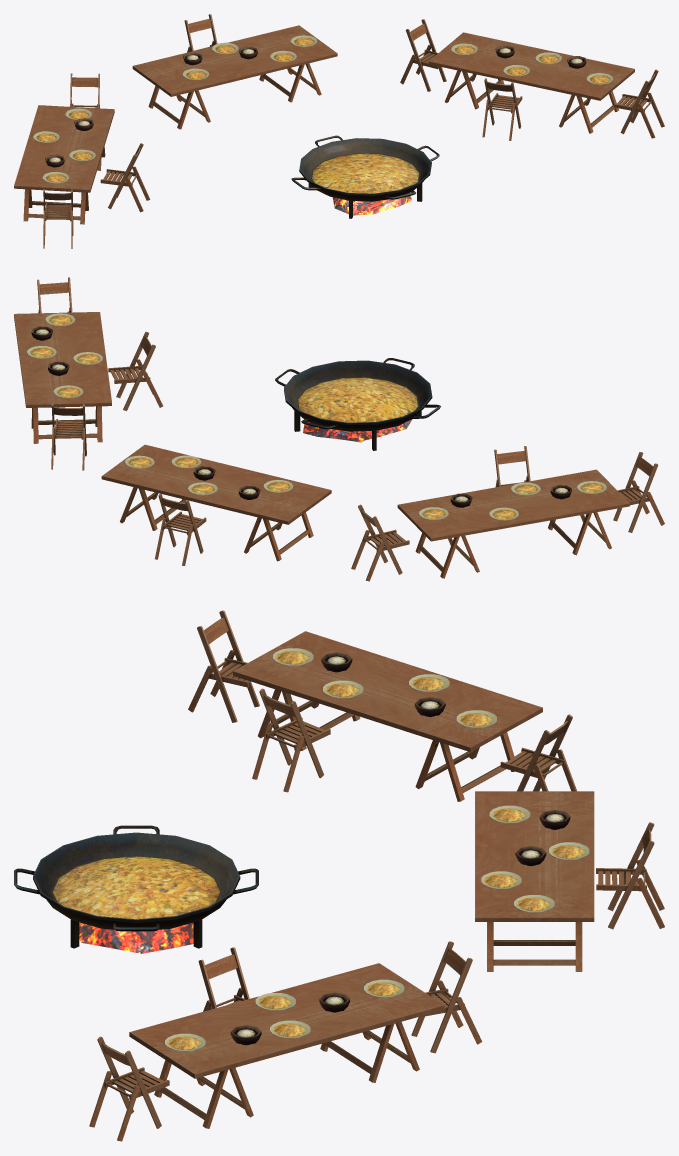
The model's file is event_valencia.gltf.
The picture shows the model from 3 angles, top to bottom: view 1: azimuth 30°, elevation 25°; view 2: azimuth 150°, elevation 25°; view 3: azimuth 270°, elevation 25°; orthographic projection. The views are drawn at different scales.
Parts seen in each view (by area): view 1: paella.001|paella|Dupli|, table.001|table|Dupli|, table.002|table|Dupli|, table.003|table|Dupli|, chair.004|chair|Dupli|, chair.005|chair|Dupli|, chair.003|chair|Dupli|, chair.006|chair|Dupli|, chair.007|chair|Dupli|, chair.002|chair|Dupli|, chair.001|chair|Dupli|; view 2: paella.001|paella|Dupli|, table.001|table|Dupli|, table.003|table|Dupli|, table.002|table|Dupli|, chair.002|chair|Dupli|, chair.001|chair|Dupli|, chair.005|chair|Dupli|, chair.007|chair|Dupli|, chair.003|chair|Dupli|, chair.006|chair|Dupli|, chair.004|chair|Dupli|; view 3: paella.001|paella|Dupli|, table.002|table|Dupli|, table.003|table|Dupli|, table.001|table|Dupli|, chair.006|chair|Dupli|, chair.004|chair|Dupli|, chair.002|chair|Dupli|, chair.007|chair|Dupli|, chair.003|chair|Dupli|, chair.001|chair|Dupli|, chair.005|chair|Dupli|.
Part boxes in pixels (x1,y1,x2,y2): paella.001|paella|Dupli|: (291, 135, 439, 218); table.001|table|Dupli|: (132, 25, 337, 129); table.002|table|Dupli|: (428, 32, 634, 133); table.003|table|Dupli|: (14, 105, 114, 224); chair.004|chair|Dupli|: (613, 69, 664, 138); chair.005|chair|Dupli|: (482, 78, 522, 140); chair.003|chair|Dupli|: (400, 19, 446, 91); chair.006|chair|Dupli|: (100, 143, 150, 212); chair.007|chair|Dupli|: (43, 189, 73, 248); chair.002|chair|Dupli|: (184, 14, 217, 52); chair.001|chair|Dupli|: (70, 73, 99, 108); paella.001|paella|Dupli|: (275, 358, 440, 450); table.001|table|Dupli|: (101, 444, 331, 561); table.003|table|Dupli|: (397, 469, 629, 578); table.002|table|Dupli|: (14, 312, 111, 443); chair.002|chair|Dupli|: (155, 493, 206, 565); chair.001|chair|Dupli|: (351, 504, 409, 581); chair.005|chair|Dupli|: (108, 331, 162, 410); chair.007|chair|Dupli|: (613, 452, 664, 532); chair.003|chair|Dupli|: (51, 403, 86, 470); chair.006|chair|Dupli|: (494, 446, 530, 487); chair.004|chair|Dupli|: (37, 277, 72, 313); paella.001|paella|Dupli|: (14, 825, 258, 953); table.002|table|Dupli|: (129, 963, 444, 1128); table.003|table|Dupli|: (233, 631, 542, 801); table.001|table|Dupli|: (475, 791, 594, 971); chair.006|chair|Dupli|: (252, 688, 330, 792); chair.004|chair|Dupli|: (89, 1036, 169, 1141); chair.002|chair|Dupli|: (596, 822, 664, 929); chair.007|chair|Dupli|: (188, 610, 259, 722); chair.003|chair|Dupli|: (411, 941, 482, 1053); chair.001|chair|Dupli|: (500, 714, 576, 791); chair.005|chair|Dupli|: (198, 947, 249, 1011).
Size of what is drawn, in the model's own units: 10.65 by 0.9873 by 6.54.
2 materials, 2 textured.
